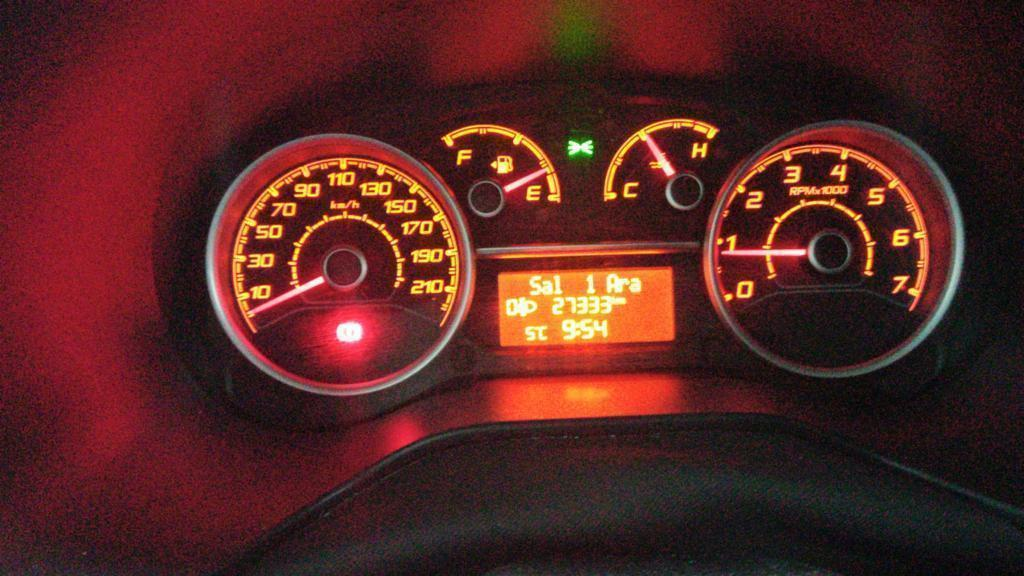0: (505, 297, 517, 316)
1: (585, 272, 596, 293)
2: (552, 297, 564, 314)
3: (588, 294, 599, 314), (576, 295, 587, 314), (600, 295, 611, 313)
4: (593, 317, 608, 337)
5: (581, 318, 593, 338), (524, 325, 535, 341)
7: (565, 295, 576, 313)
9: (561, 318, 575, 340)
X: (606, 272, 618, 293), (529, 275, 541, 295), (629, 276, 642, 292), (553, 274, 563, 294), (617, 277, 628, 292), (542, 280, 552, 295), (538, 326, 547, 340), (618, 296, 626, 305), (576, 321, 580, 336), (612, 295, 617, 305)
odometer: (494, 265, 680, 346)
